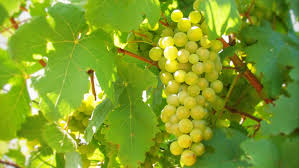grapes: (148, 8, 222, 168)
